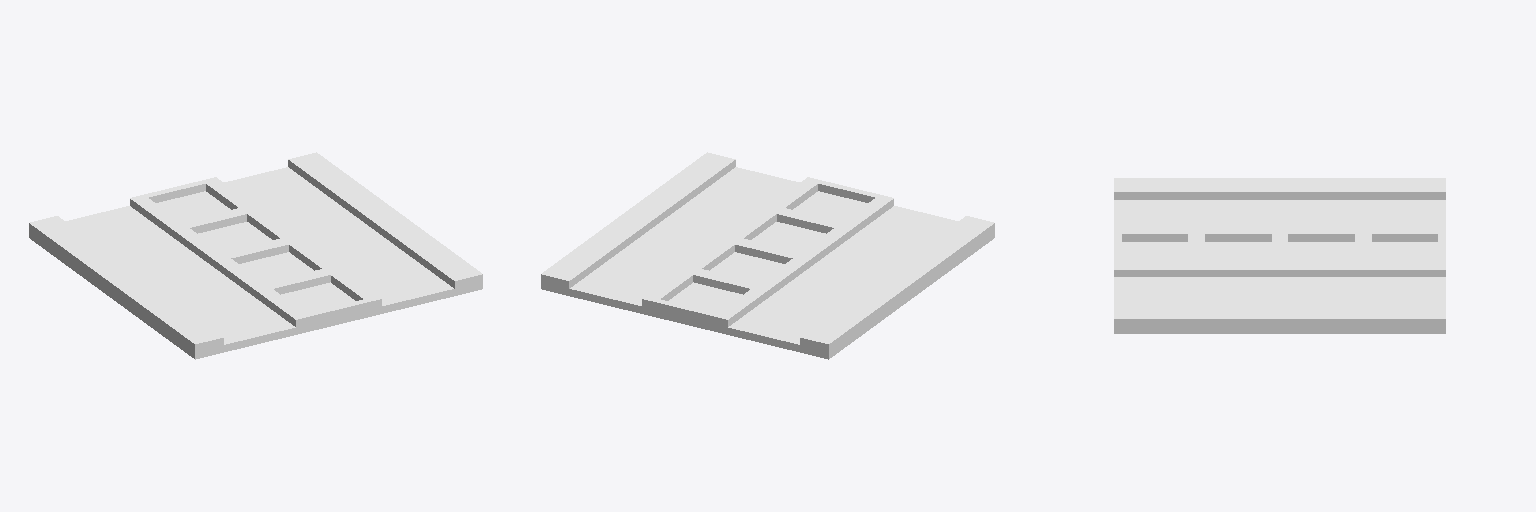
Rendered from Asset-29.obj.
3 renders of one model, left to right at view 1: azimuth 30°, elevation 25°; view 2: azimuth 150°, elevation 25°; view 3: azimuth 270°, elevation 25°, orthographic.
Parts seen in each view (by area): view 1: Asset-29; view 2: Asset-29; view 3: Asset-29.
Boxes of the visible parts, x1,y1,x2,y2 form: Asset-29: [29, 152, 482, 359]; Asset-29: [541, 152, 994, 359]; Asset-29: [1114, 178, 1445, 333].
Bounding box in the file's own units: 40 × 2 × 40.